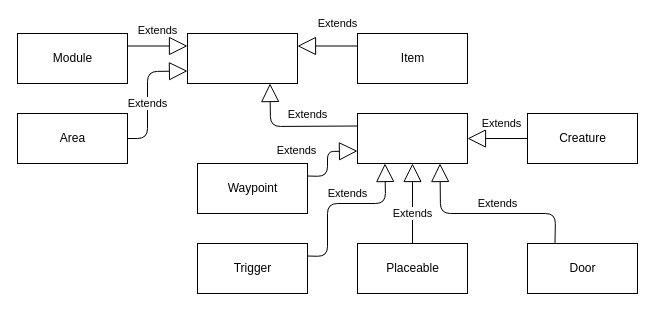
Some shapes in this 655 by 311 pixel diagram are drawn without their labels. The centre of each missing label's shape, as x and y in pixels:
"Object" belongs at [242,58].
"SpatialObject" belongs at [412,138].
